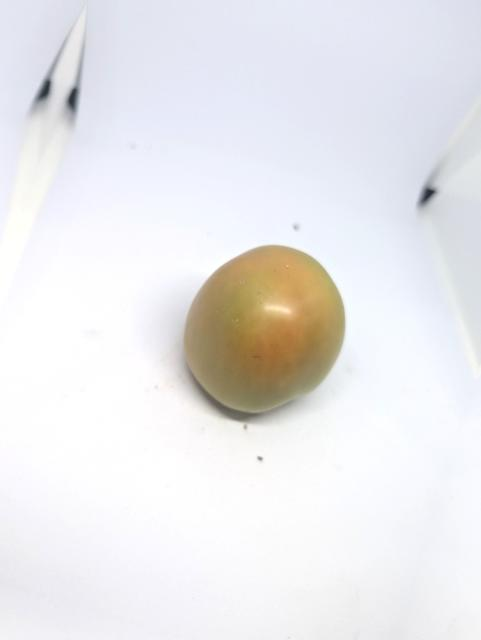breaker: (180, 244, 350, 415)
